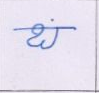anusvara: (51, 19, 54, 21)
